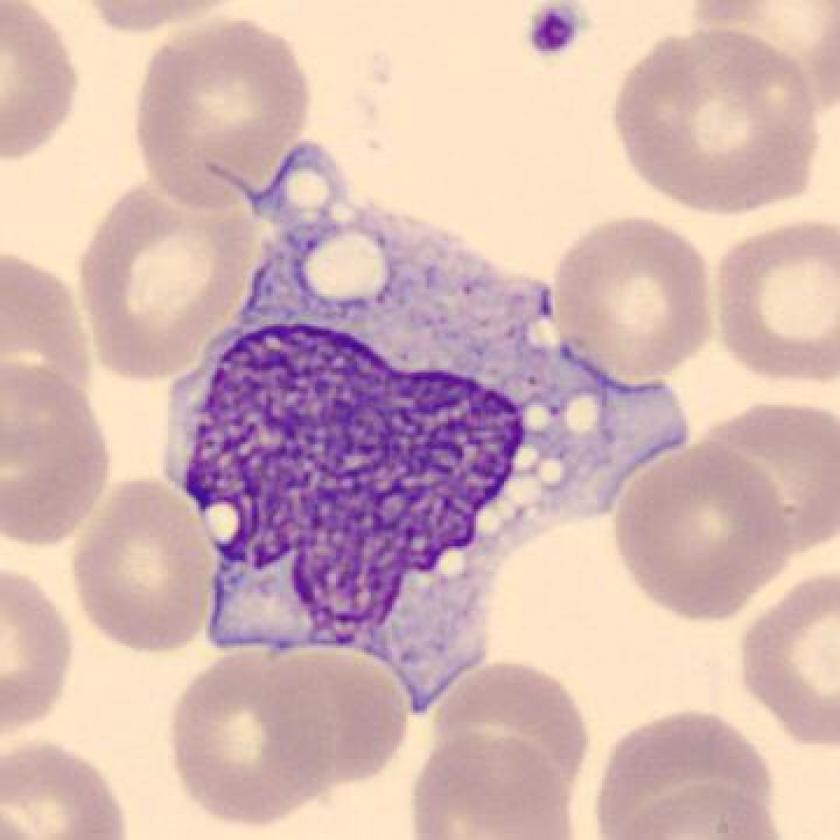monocyte: (148, 129, 703, 733)
